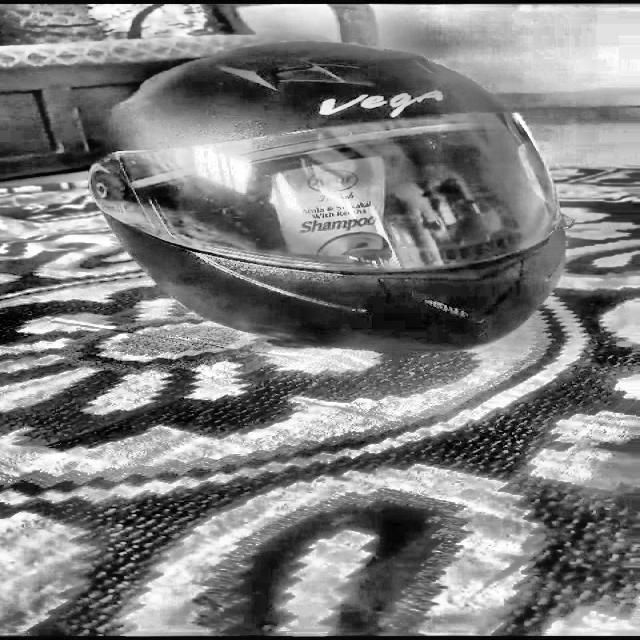Helmet: (80, 39, 601, 352)
